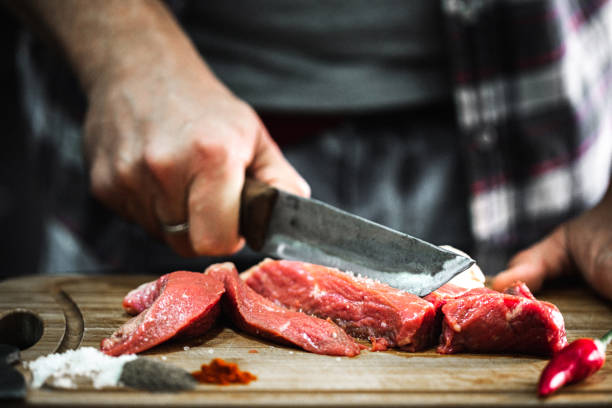knife: (236, 174, 478, 298)
